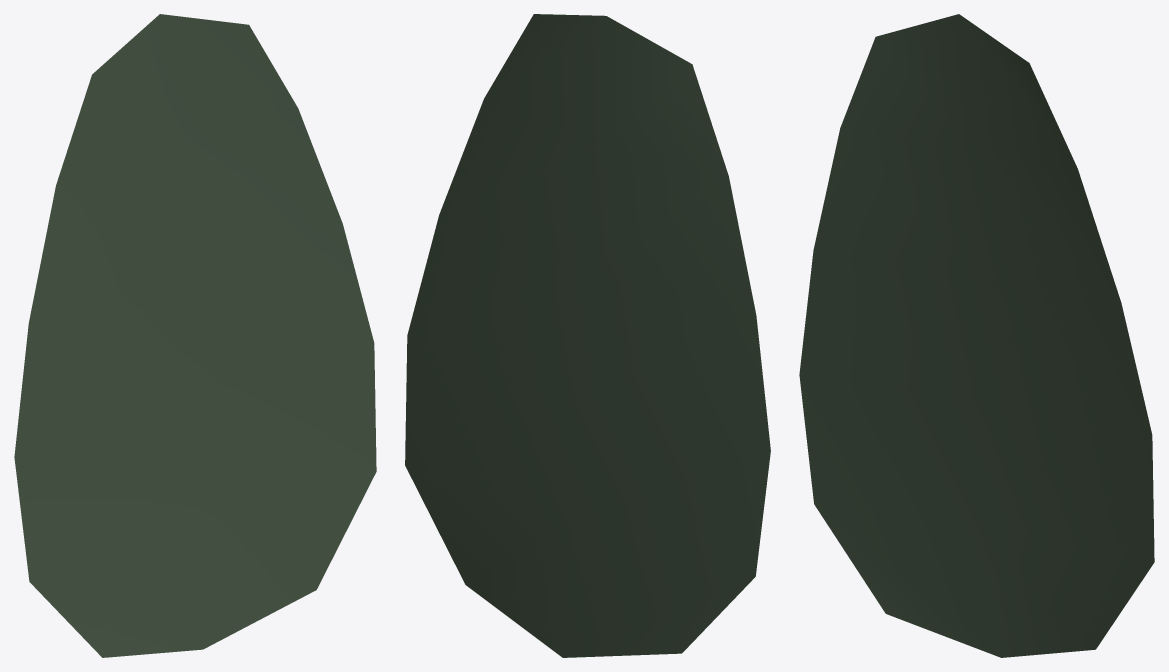
File: duck_feather_flight_tertiary_041.obj
The picture shows the model from 3 angles, left to right: view 1: azimuth 30°, elevation 25°; view 2: azimuth 150°, elevation 25°; view 3: azimuth 330°, elevation 25°; orthographic projection. The views are drawn at different scales.
Visible parts, largest first — view 1: feather_flight_tertiary_041; view 2: feather_flight_tertiary_041; view 3: feather_flight_tertiary_041.
Boxes of the visible parts, x1,y1,x2,y2 form: feather_flight_tertiary_041: (14, 14, 376, 657); feather_flight_tertiary_041: (405, 14, 770, 657); feather_flight_tertiary_041: (799, 14, 1154, 657).
Bounding box in the file's own units: 0.0153 × 0.0261 × 0.000633.
